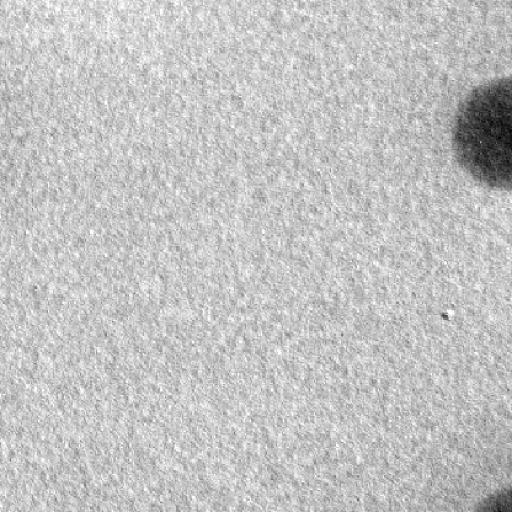Nanoparticles: (455, 75, 510, 189), (475, 480, 511, 512)
